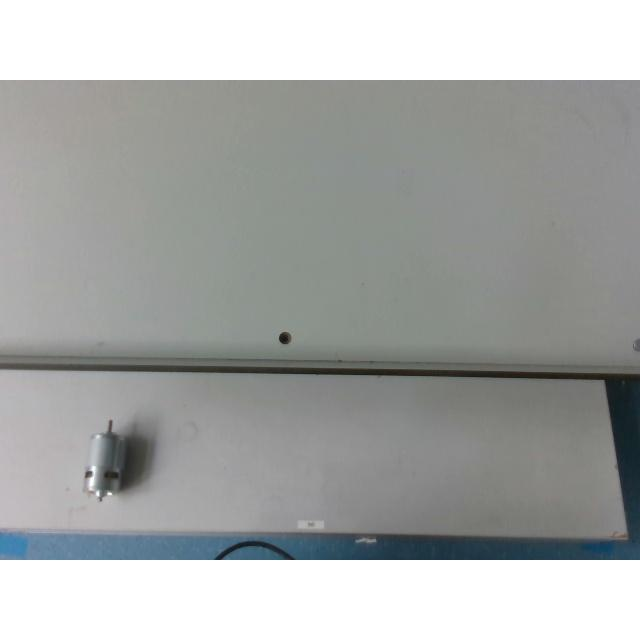Motor2: (82, 418, 125, 502)
